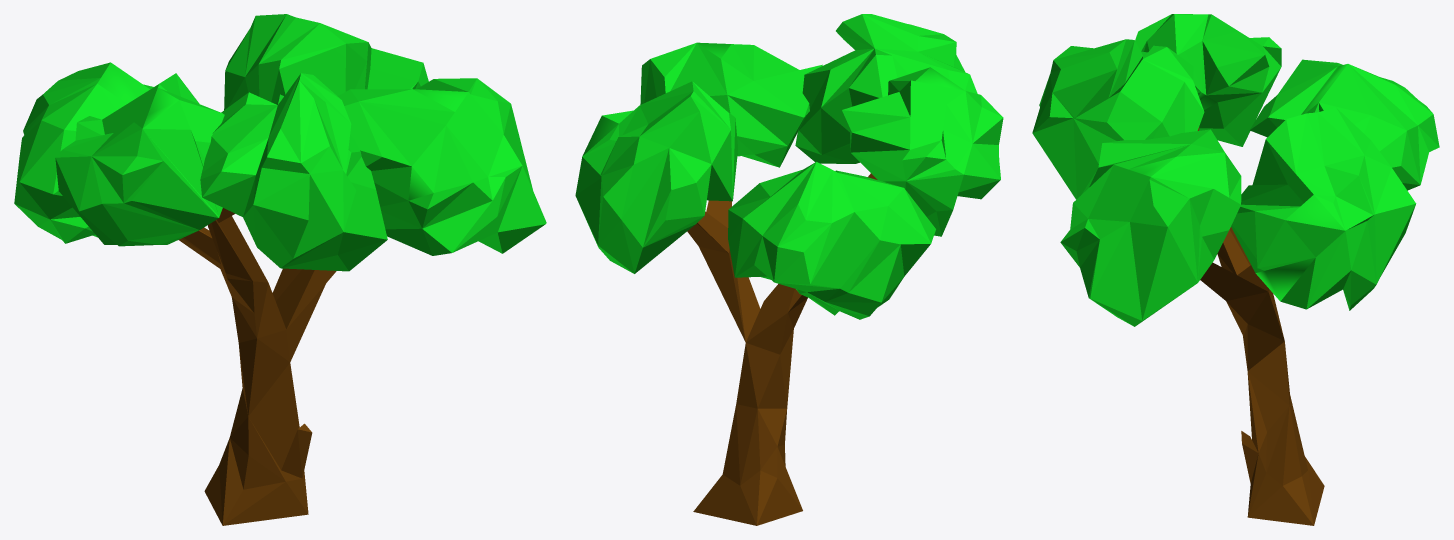
The model's file is Delete_treee.fbx.
3 renders of one model, left to right at view 1: azimuth 30°, elevation 25°; view 2: azimuth 150°, elevation 25°; view 3: azimuth 270°, elevation 25°, orthographic. The views are drawn at different scales.
Visible parts, largest first — view 1: Tree; view 2: Tree; view 3: Tree.
Part boxes in pixels (<box>): Tree: <box>14,14,546,525</box>; Tree: <box>575,14,1003,525</box>; Tree: <box>1032,14,1439,525</box>.
Bounding box in the file's own units: 219 × 246 × 203.
